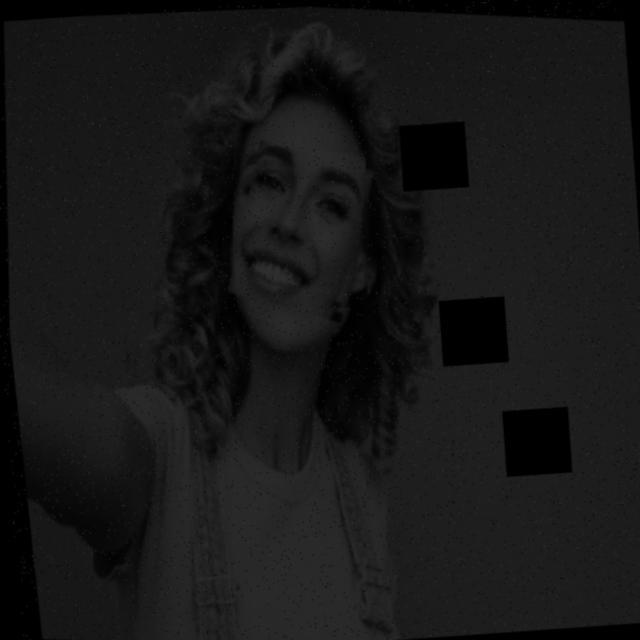Happy: (182, 87, 412, 401)
